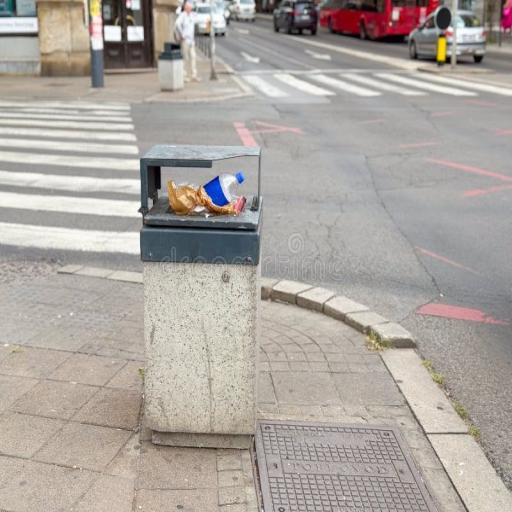Contenedor_Desbordado: (138, 143, 262, 447)
